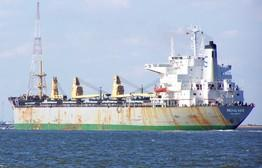Cargoship: (8, 8, 254, 131)
